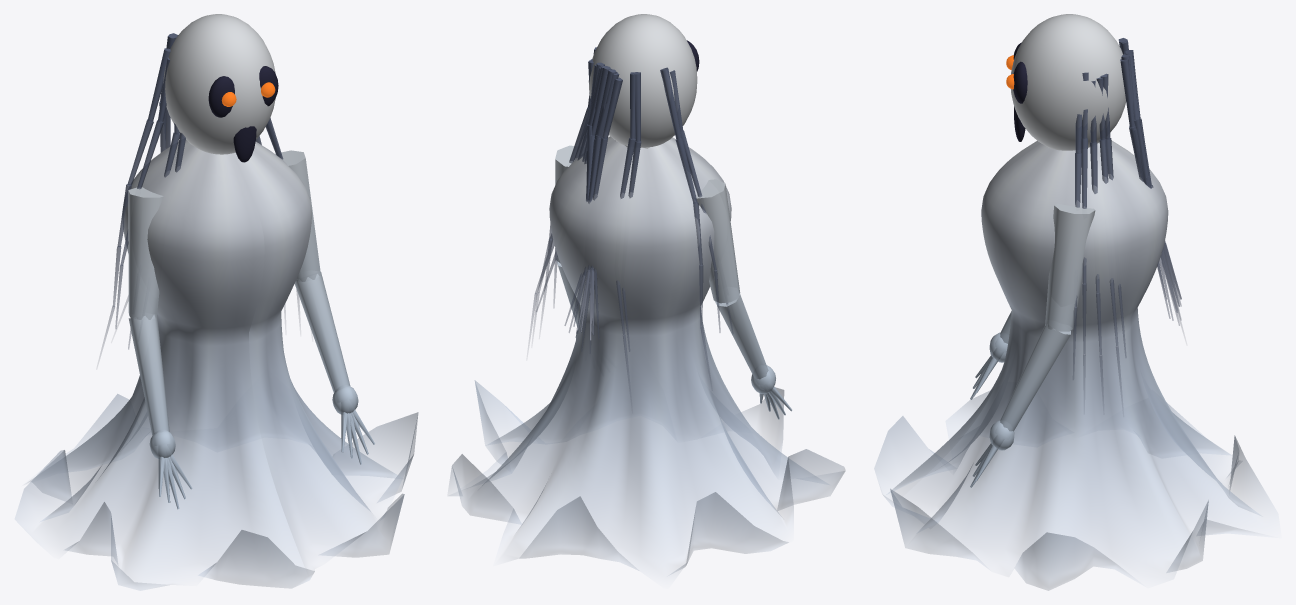
The model's file is ghost.glb.
3 renders of one model, left to right at view 1: azimuth 30°, elevation 25°; view 2: azimuth 150°, elevation 25°; view 3: azimuth 270°, elevation 25°, orthographic. The views are drawn at different scales.
Parts seen in each view (by area): view 1: Body, Skull, ArmL, ArmR, Hair; view 2: Body, Hair, Skull, ArmL, ArmR; view 3: Body, Skull, ArmR, Hair, ArmL.
Boxes of the visible parts, x1,y1,x2,y2 form: Body: (15,140,418,590); Skull: (163,14,278,162); ArmL: (128,187,192,509); ArmR: (275,150,374,464); Hair: (97,33,300,365); Body: (448,136,845,576); Hair: (528,47,733,401); Skull: (588,14,699,148); ArmL: (696,179,792,419); ArmR: (555,145,580,338); Body: (874,140,1277,590); Skull: (1011,14,1126,150); ArmR: (970,203,1095,487); Hair: (1073,38,1184,405); ArmL: (970,311,1011,399).
Size of the model in its own units: 1.59 by 2.11 by 1.57.
